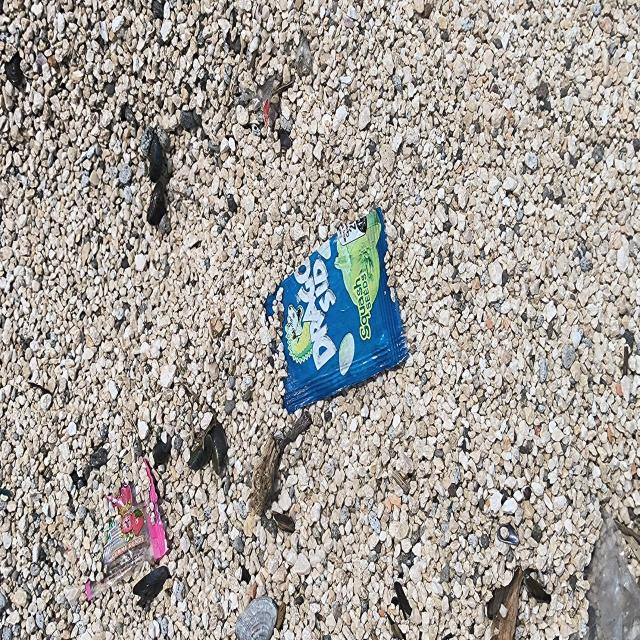plastic_waste: (265, 206, 411, 416), (77, 459, 169, 601)
